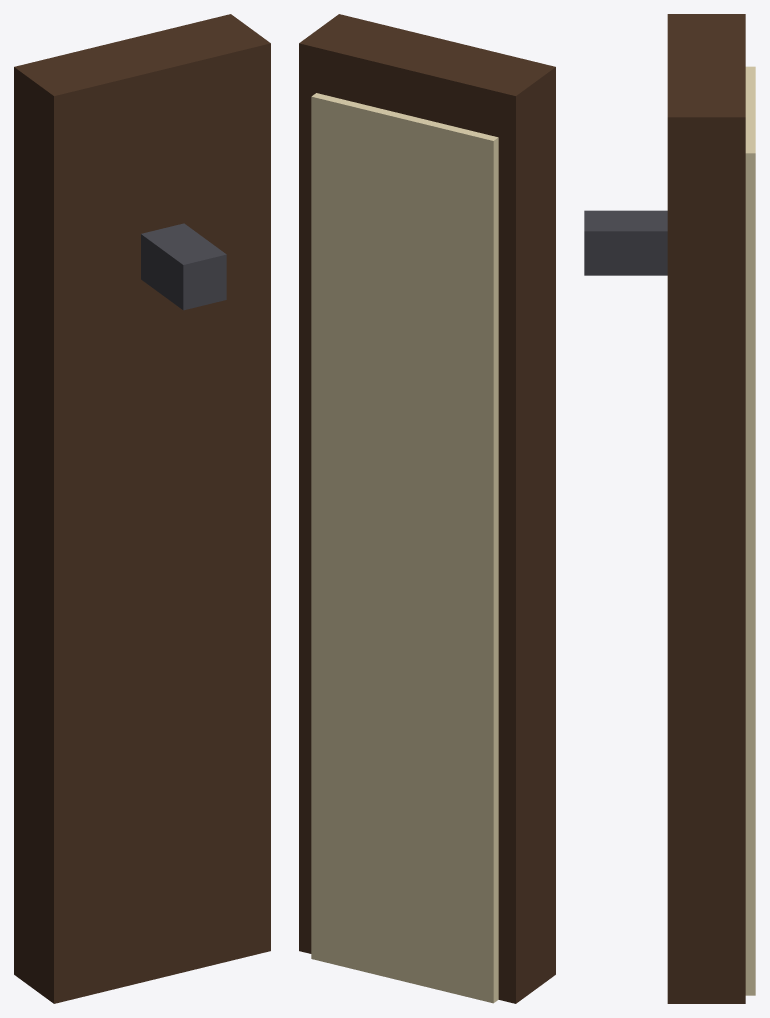
Rendered from SM_K_SignboardVert.obj.
3 renders of one model, left to right at view 1: azimuth 30°, elevation 25°; view 2: azimuth 150°, elevation 25°; view 3: azimuth 270°, elevation 25°, orthographic. The views are drawn at different scales.
Visible parts, largest first — view 1: SM_K_SignboardVert; view 2: SM_K_SignboardVert; view 3: SM_K_SignboardVert.
Boxes of the visible parts, x1,y1,x2,y2 form: SM_K_SignboardVert: (14,14,270,1003); SM_K_SignboardVert: (299,14,555,1003); SM_K_SignboardVert: (584,14,755,1003).
Size of the model in its own units: 0.5 by 2 by 0.35.
